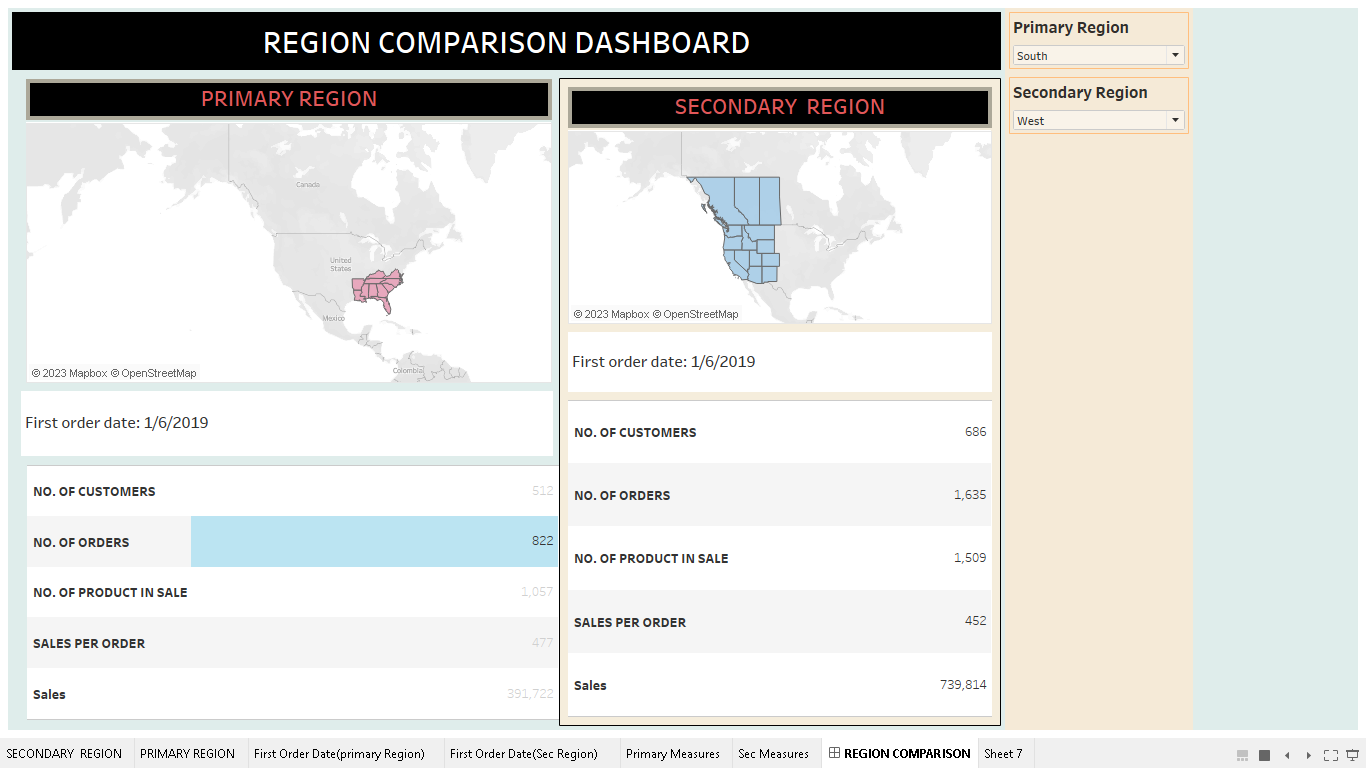

This screenshot's page, from the dashboard's own definition file:
{"tool":"tableau","page":{"name":"REGION COMPARISON","canvas":[1000,1000],"units":"permille","ordinal":0},"visuals":[{"type":"text","box":[7.5,13.7,808.5,88.8]},{"type":"parameter","param":"[Parameters].[Parameter 1]","box":[816,13.7,176.5,89]},{"type":"worksheet","title":"PRIMARY REGION","mark":"Multipolygon","box":[16.4,101,391,422.9]},{"type":"blank","box":[7.5,102.5,443.7,883.8]},{"type":"parameter","param":"[Parameters].[Parameter 2]","box":[816,102.7,176.5,89]},{"type":"worksheet","title":"SECONDARY  REGION","mark":"Multipolygon","box":[459.6,117.9,347.9,419.5]},{"type":"worksheet","title":"First Order Date(primary Region)","mark":"Automatic","box":[12.7,524,395.5,101]},{"type":"worksheet","title":"First Order Date(Sec Region) ","mark":"Automatic","box":[459.6,537.5,347.9,116.4]},{"type":"worksheet","title":"Primary Measures","mark":"Automatic","box":[17.2,625,395.5,356.2]},{"type":"worksheet","title":"Sec Measures","mark":"Automatic","box":[459.6,653.9,347.9,317]}]}

Visuals, with their boxes on the dashboard's canvas, which has no fixed pixel size, in thousandths of its width and height (x1, y1, x2, y2). These are canvas units, not pixel positions in the 1366x768 screenshot, which may show the page scaled, cropped or inside an application window:
text: [x1=8, y1=14, x2=816, y2=102]
parameter: [x1=816, y1=14, x2=992, y2=103]
"PRIMARY REGION" worksheet (Multipolygon marks): [x1=16, y1=101, x2=407, y2=524]
blank: [x1=8, y1=102, x2=451, y2=986]
parameter: [x1=816, y1=103, x2=992, y2=192]
"SECONDARY  REGION" worksheet (Multipolygon marks): [x1=460, y1=118, x2=808, y2=537]
"First Order Date(primary Region)" worksheet: [x1=13, y1=524, x2=408, y2=625]
"First Order Date(Sec Region) " worksheet: [x1=460, y1=538, x2=808, y2=654]
"Primary Measures" worksheet: [x1=17, y1=625, x2=413, y2=981]
"Sec Measures" worksheet: [x1=460, y1=654, x2=808, y2=971]
